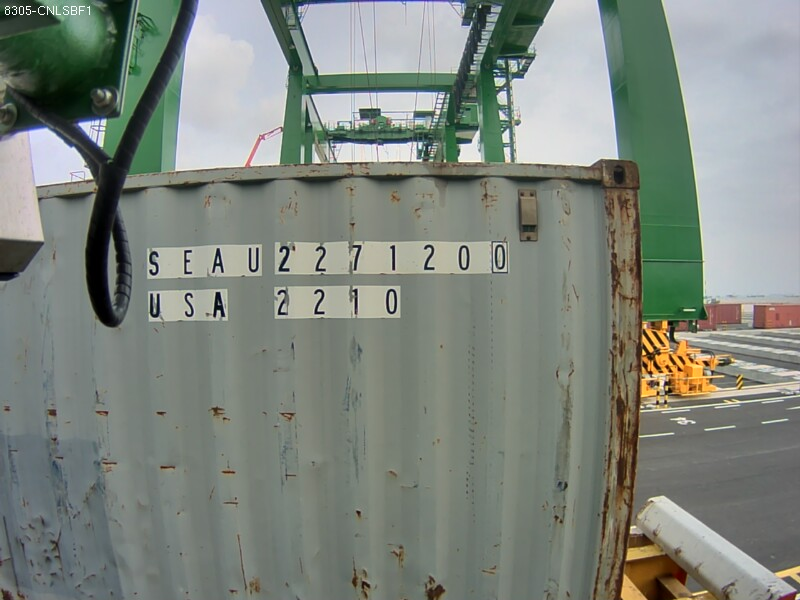container_no_door: (171, 150, 661, 555)
